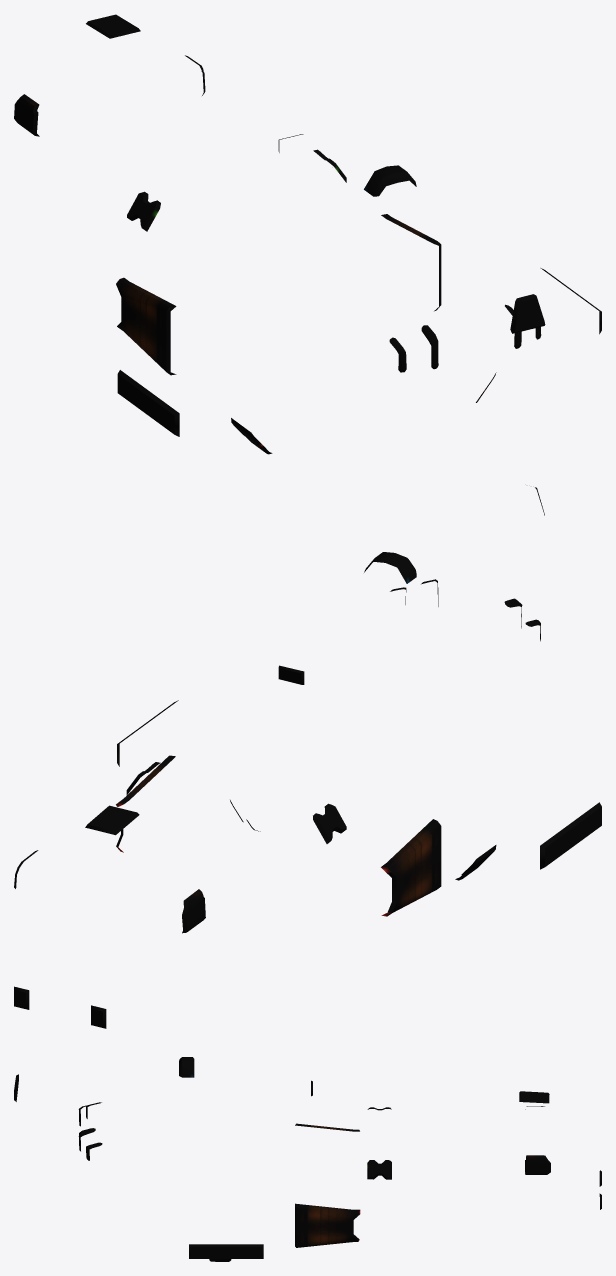
The model's file is ama_cc_comm_01_t3.glb.
3 views of the same model, one above another, from view 1: azimuth 30°, elevation 25°; view 2: azimuth 150°, elevation 25°; view 3: azimuth 270°, elevation 25° (orthographic). The views are drawn at different scales.
Visible parts, largest first — view 1: ama_command_01_t3_LOD0; view 2: ama_command_01_t3_LOD0; view 3: ama_command_01_t3_LOD0.
Part boxes in pixels (x1,y1,x2,y2): ama_command_01_t3_LOD0: [14, 14, 601, 454]; ama_command_01_t3_LOD0: [14, 487, 601, 1028]; ama_command_01_t3_LOD0: [14, 1057, 601, 1261].
Size of what is drawn, in the model's own units: 4.59 by 2.83 by 8.76.
Materials: 1 (1 with a texture image).
